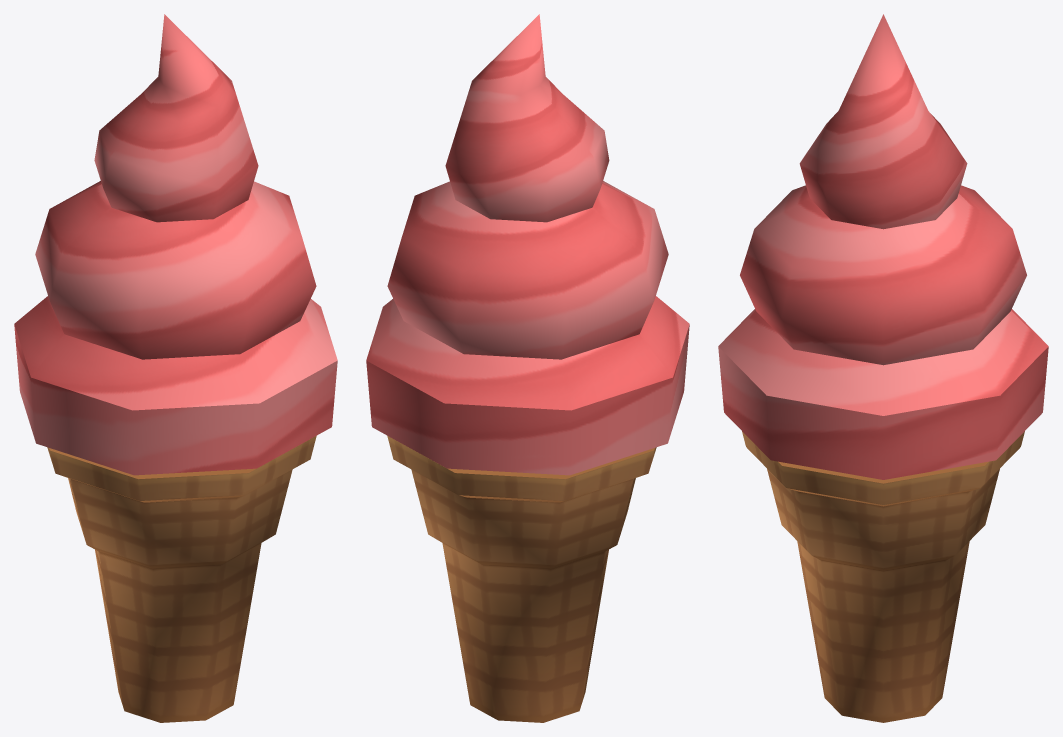
The model's file is soft ice cream.FBX.
The picture shows the model from 3 angles, left to right: view 1: azimuth 30°, elevation 25°; view 2: azimuth 150°, elevation 25°; view 3: azimuth 270°, elevation 25°; orthographic projection.
Visible parts, largest first — view 1: soft ice cream; view 2: soft ice cream; view 3: soft ice cream.
Boxes of the visible parts, box(x1,y1,x2,y2) form: soft ice cream: box(14, 14, 337, 722); soft ice cream: box(366, 14, 689, 722); soft ice cream: box(718, 14, 1048, 722).
Size of the model in its own units: 2.59 by 5.86 by 2.59.
